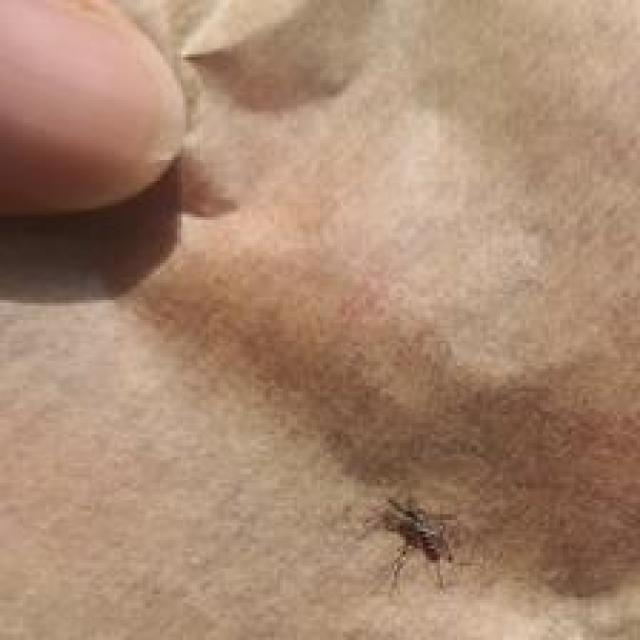Aedes albopictus: (376, 493, 461, 596)
